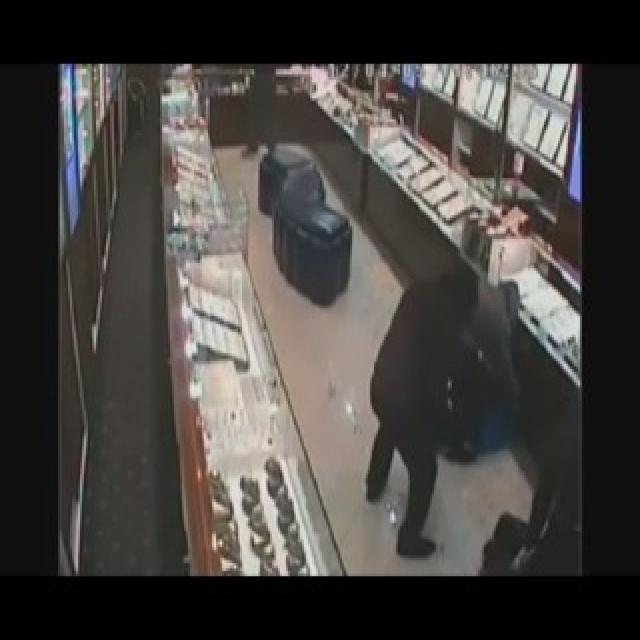thief: (354, 266, 522, 559), (238, 62, 281, 164)
